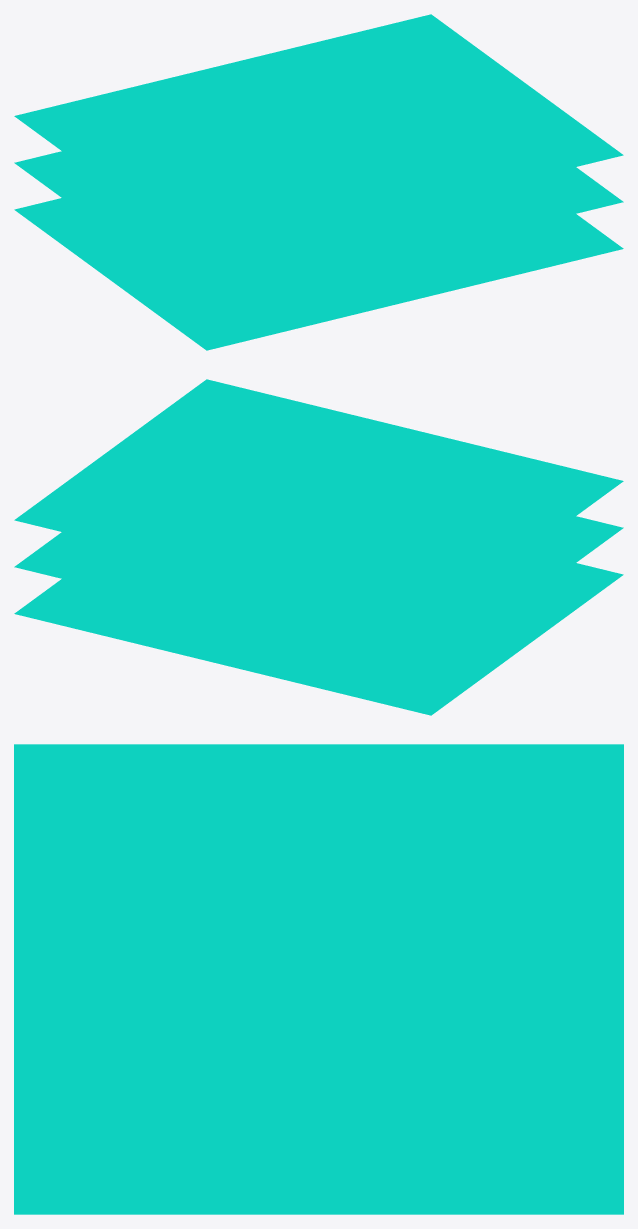
File: node-art.glb
The picture shows the model from 3 angles, top to bottom: view 1: azimuth 30°, elevation 25°; view 2: azimuth 150°, elevation 25°; view 3: azimuth 270°, elevation 25°; orthographic projection. The views are drawn at different scales.
Parts seen in each view (by area): view 1: Art_2, Art_0, Art_1; view 2: Art_2, Art_0, Art_1; view 3: Art_2, Art_0, Art_1.
Part boxes in pixels (<box>): Art_2: <box>14,14,623,256</box>; Art_0: <box>14,198,623,350</box>; Art_1: <box>14,151,623,303</box>; Art_2: <box>14,379,623,621</box>; Art_0: <box>14,563,623,715</box>; Art_1: <box>14,516,623,668</box>; Art_2: <box>14,744,623,1066</box>; Art_0: <box>14,1140,623,1214</box>; Art_1: <box>14,1066,623,1140</box>.
Bounding box in the file's own units: 1.4 × 0.3 × 1.12.
